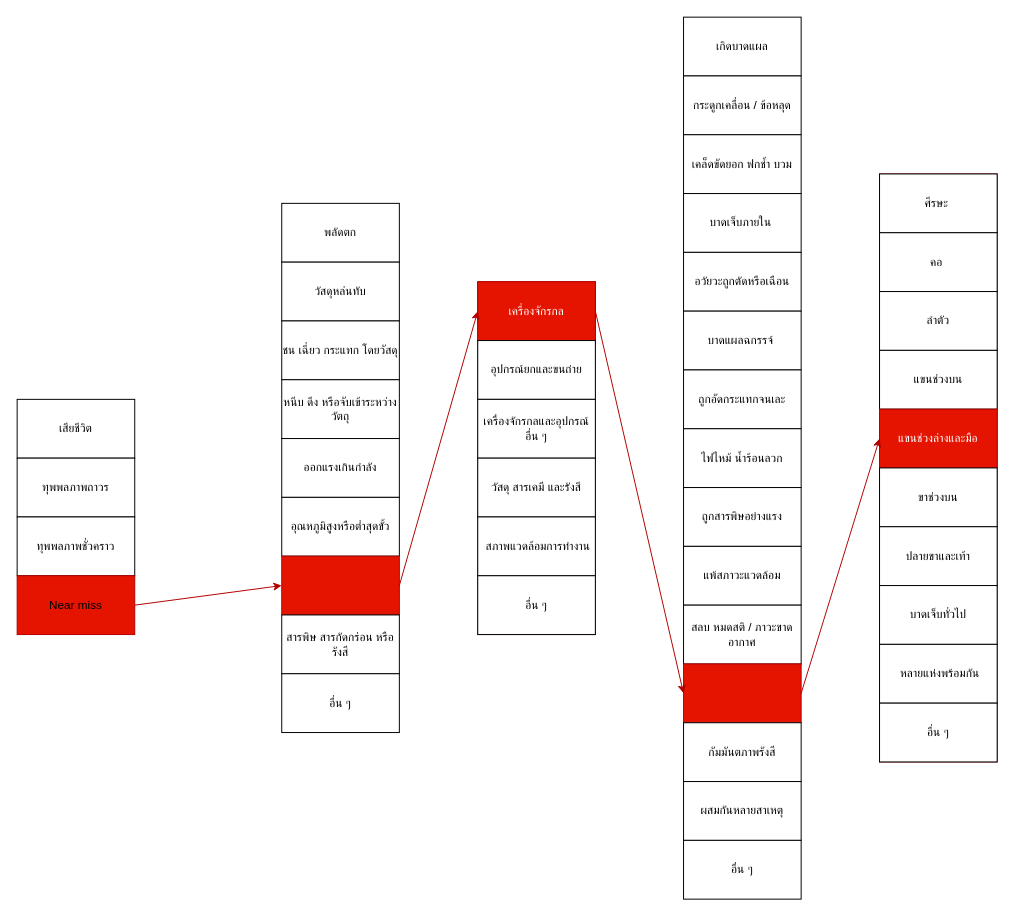
Image size: 1014x916. Some labels were removed from this diagram. Here are the shapes that lost their labels. From the top down, the box of each, then its label:
(281, 555, 399, 615): ไฟฟ้า
(683, 663, 801, 723): กระแสไฟฟ้า
